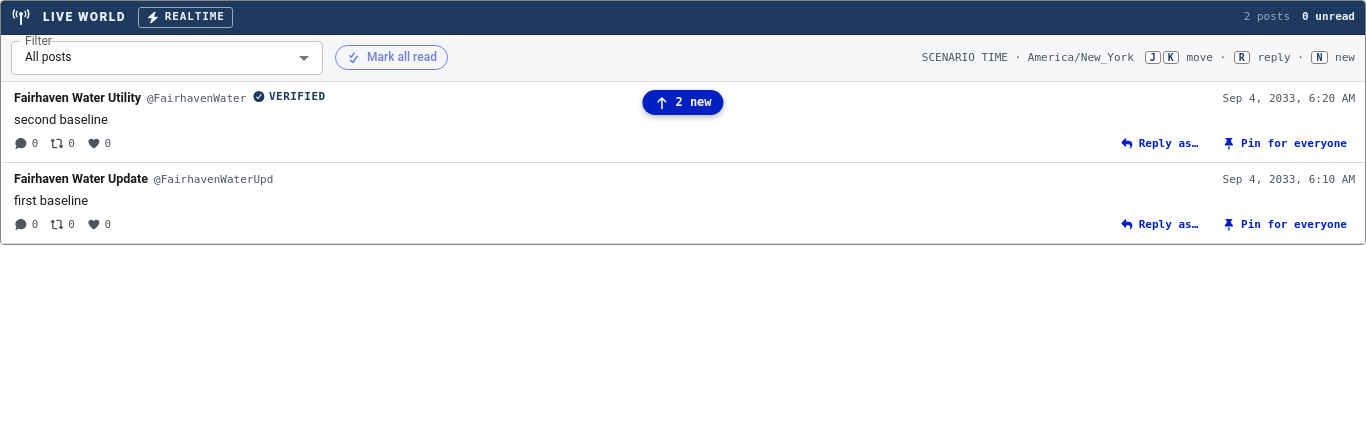
Scenario: AC — "N new" composes with unread › arrivals held while reading merge in UNREAD; "N new" itself is unchanged
This screenshot has width=1366, height=425.
(page scrolled)
Click the button with test id "live-world-new": (683,102) [642,90,724,115]
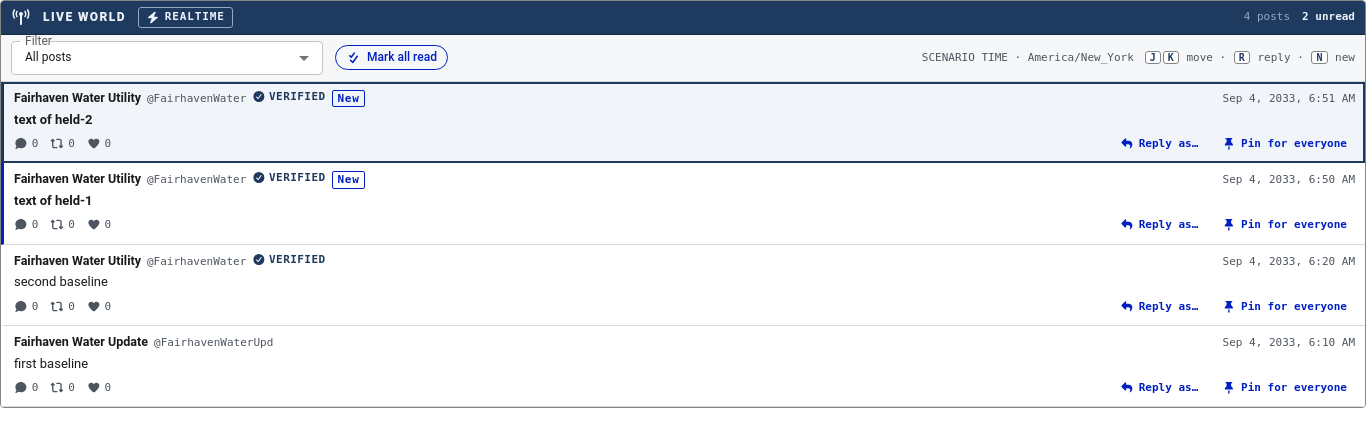
Now the text with test id "live-world-unread-count" reads "2 unread", box [1302,10,1355,23]
